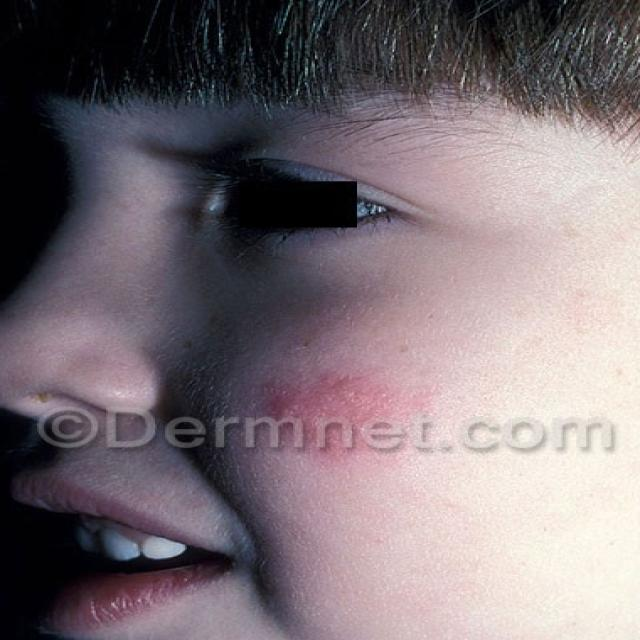Viral Infections: (247, 339, 540, 544)
